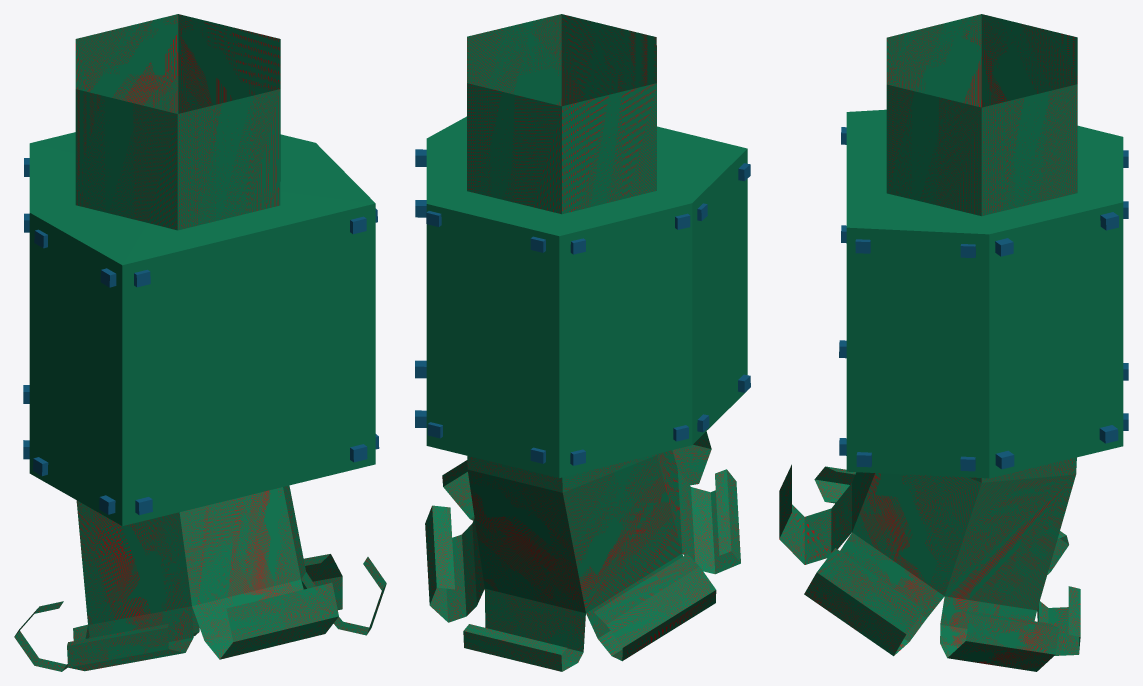
Rendered from tube_start.FBX.
3 views of the same model, side by side, from view 1: azimuth 30°, elevation 25°; view 2: azimuth 150°, elevation 25°; view 3: azimuth 270°, elevation 25° (orthographic). The views are drawn at different scales.
Parts seen in each view (by area): view 1: sign, tube001, tube_start_interior, screw; view 2: sign, tube001, tube_start_interior, screw; view 3: tube001, sign, tube_start_interior, screw.
Boxes of the visible parts, x1,y1,x2,y2 form: sign: (29, 132, 375, 525); tube001: (14, 14, 386, 671); tube_start_interior: (15, 15, 385, 670); screw: (23, 158, 379, 515); sign: (426, 116, 747, 478); tube001: (425, 14, 740, 671); tube_start_interior: (425, 14, 740, 670); screw: (415, 149, 750, 465); tube001: (779, 14, 1080, 671); sign: (846, 109, 1123, 478); tube_start_interior: (779, 14, 1080, 669); screw: (839, 127, 1128, 471).
Size of the model in its own units: 3678 by 6437 by 3568.
